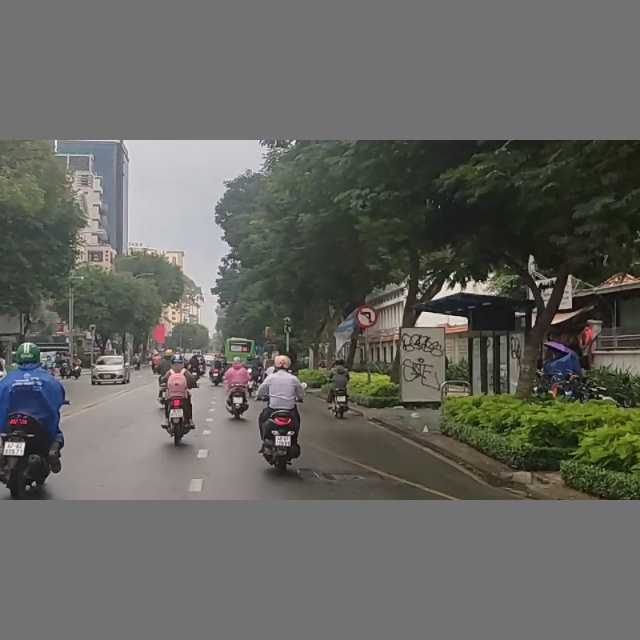P.123a: (355, 305, 377, 328)
